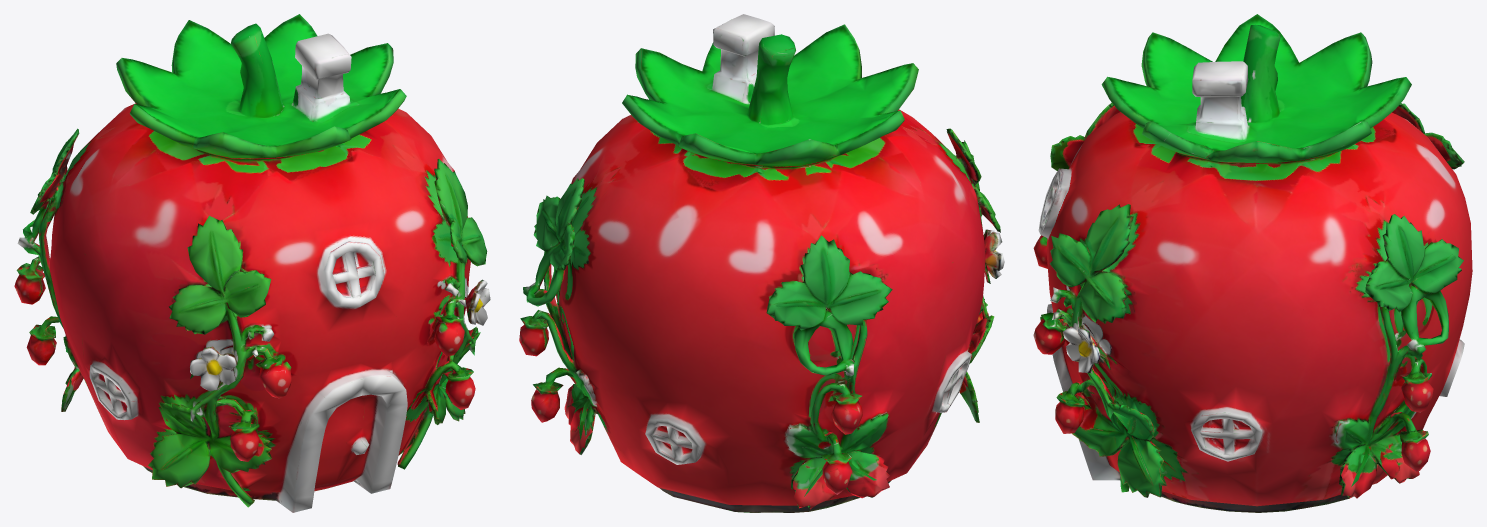
File: Meshy_AI_Generate_a_vibrant_ca_0114101538_texture.fbx
The picture shows the model from 3 angles, left to right: view 1: azimuth 30°, elevation 25°; view 2: azimuth 150°, elevation 25°; view 3: azimuth 270°, elevation 25°; orthographic projection. The views are drawn at different scales.
Visible parts, largest first — view 1: Mesh1.0; view 2: Mesh1.0; view 3: Mesh1.0.
Boxes of the visible parts, x1=… form: Mesh1.0: x1=14, y1=14, x2=490, y2=512; Mesh1.0: x1=519, y1=14, x2=1004, y2=512; Mesh1.0: x1=1033, y1=14, x2=1472, y2=512.
Bounding box in the file's own units: 174 × 191 × 179.
Materials: 1 (1 with a texture image).
